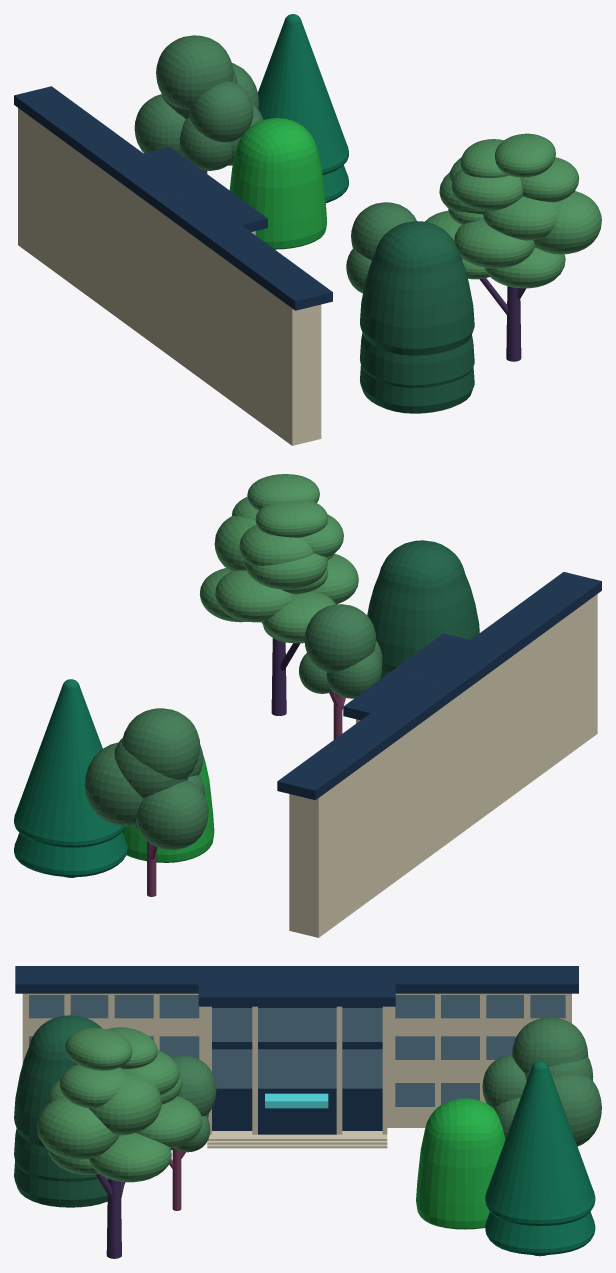
Rendered from UedaCampus_EntranceFacade.fbx.
3 renders of one model, top to bottom at view 1: azimuth 30°, elevation 25°; view 2: azimuth 150°, elevation 25°; view 3: azimuth 270°, elevation 25°, orthographic.
Parts seen in each view (by area): view 1: EntranceFacade, Tree1, Tree2, Tree5, Tree4, Tree6, Tree3; view 2: EntranceFacade, Tree1, Tree5, Tree6, Tree2, Tree3, Tree4; view 3: EntranceFacade, Tree1, Tree6, Tree4, Tree2, Tree5, Tree3.
Boxes of the visible parts, <box> form: EntranceFacade: <box>14,86,332,445</box>; Tree1: <box>425,133,601,361</box>; Tree2: <box>360,221,474,413</box>; Tree5: <box>134,35,263,173</box>; Tree4: <box>229,118,326,249</box>; Tree6: <box>258,14,348,203</box>; Tree3: <box>346,202,416,293</box>; EntranceFacade: <box>277,572,601,937</box>; Tree1: <box>199,474,358,715</box>; Tree5: <box>84,708,208,896</box>; Tree6: <box>14,679,127,877</box>; Tree2: <box>367,540,479,679</box>; Tree3: <box>299,604,382,739</box>; Tree4: <box>122,755,214,862</box>; EntranceFacade: <box>15,966,578,1148</box>; Tree1: <box>37,1027,202,1258</box>; Tree6: <box>485,1060,595,1256</box>; Tree4: <box>416,1098,505,1229</box>; Tree2: <box>14,1015,125,1207</box>; Tree5: <box>482,1017,601,1146</box>; Tree3: <box>169,1055,216,1210</box>.
Size of the model in its own units: 2505 by 1602 by 3821.
